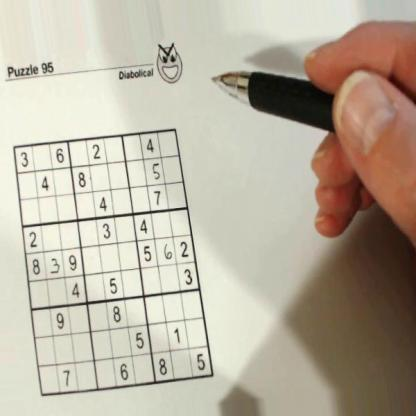sudoku: (11, 125, 217, 401)
